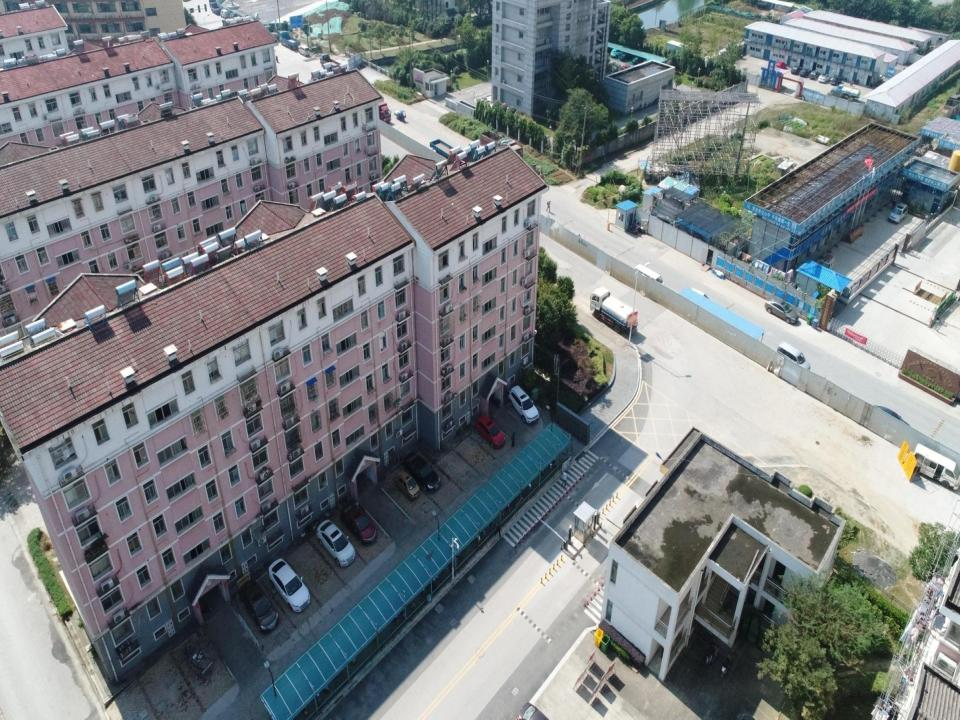car: (268, 553, 310, 613), (237, 578, 279, 634), (312, 518, 356, 566), (338, 500, 378, 545), (402, 449, 440, 493), (509, 385, 540, 425), (778, 342, 810, 372), (765, 296, 799, 324), (888, 201, 908, 222), (830, 73, 842, 85), (819, 74, 830, 86), (790, 65, 800, 75), (800, 68, 810, 78), (610, 48, 622, 56), (810, 69, 818, 81), (620, 51, 628, 61), (632, 56, 641, 63), (528, 484, 532, 492)
truck: (590, 286, 638, 334), (480, 131, 526, 162), (430, 138, 470, 166), (278, 30, 300, 52), (830, 85, 860, 101), (374, 99, 391, 123), (320, 54, 341, 72), (261, 25, 280, 41), (211, 2, 220, 15)
van: (912, 442, 959, 492), (396, 472, 419, 500), (819, 253, 835, 269), (298, 45, 310, 57), (220, 9, 229, 17)
